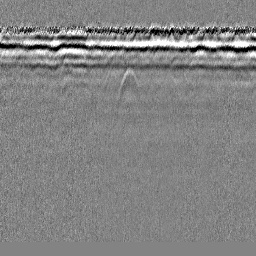cavity: (116, 64, 142, 108)
